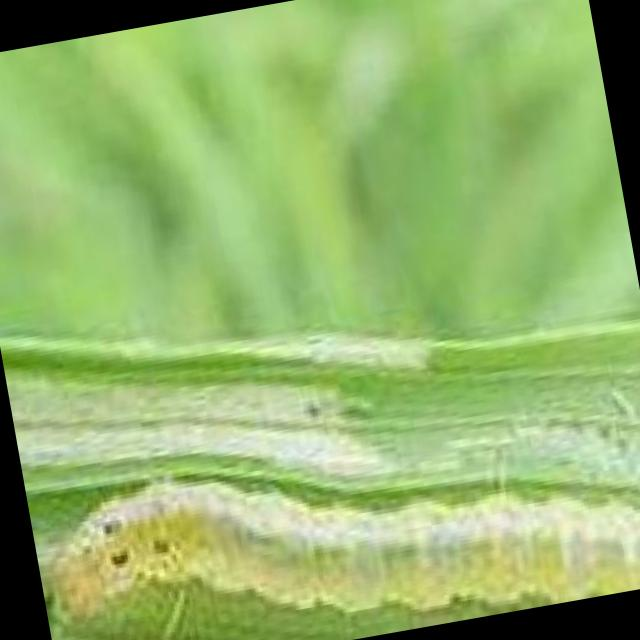leaf-folder: (23, 373, 640, 640)
